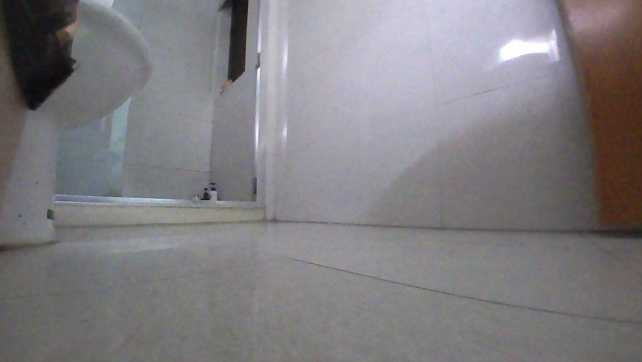toilet: (0, 0, 156, 246)
